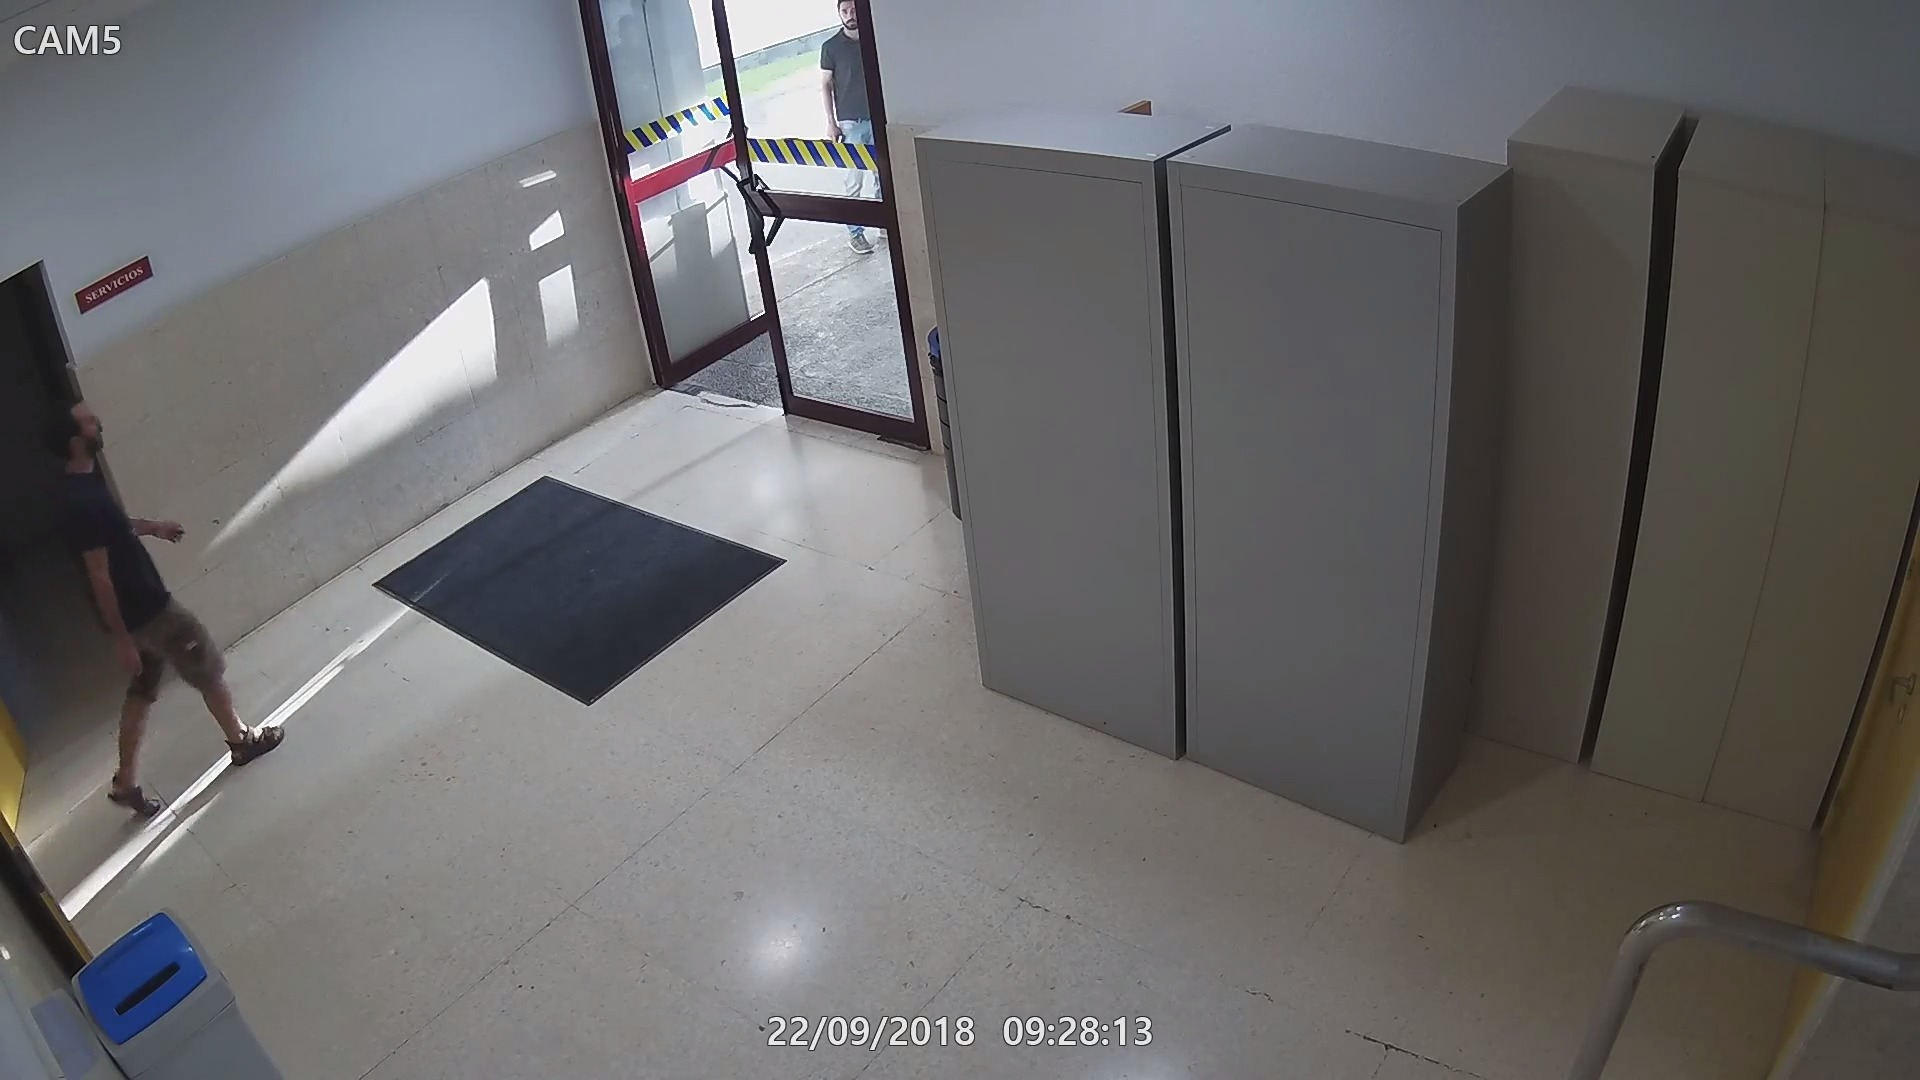Handgun: (112, 634, 164, 708)
